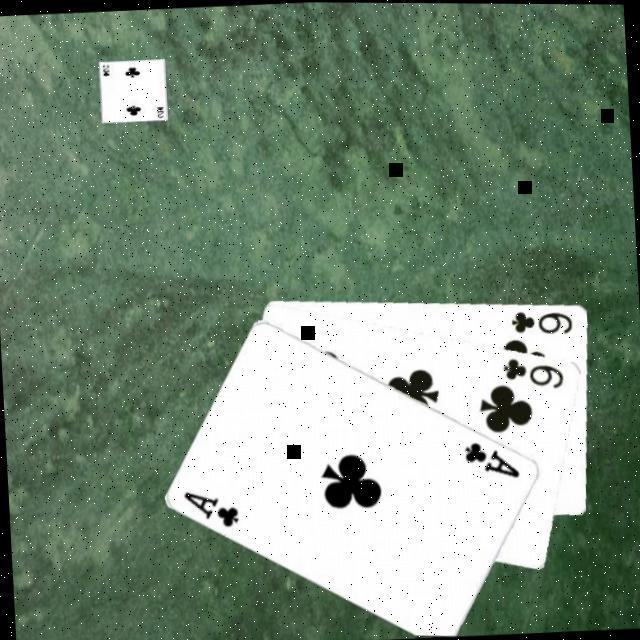6C: (499, 350, 567, 391), (508, 304, 576, 337)
AC: (180, 484, 243, 531), (460, 434, 522, 481)
